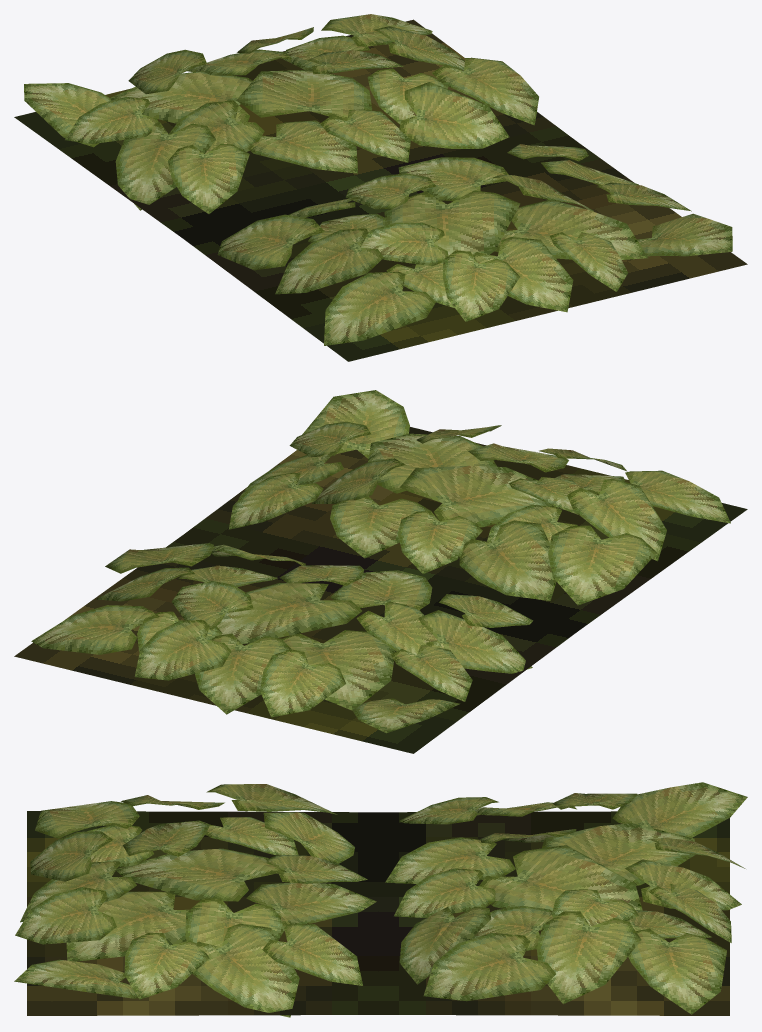
File: Emb_PlanterBalc_3X4_DirtB.FBX
3 views of the same model, one above another, from view 1: azimuth 30°, elevation 25°; view 2: azimuth 150°, elevation 25°; view 3: azimuth 270°, elevation 25° (orthographic). The views are drawn at different scales.
Visible parts, largest first — view 1: Emb_PlanterBalc_3X4_DirtB; view 2: Emb_PlanterBalc_3X4_DirtB; view 3: Emb_PlanterBalc_3X4_DirtB.
Part boxes in pixels (left/top/right/bottom): Emb_PlanterBalc_3X4_DirtB: left=14, top=14, right=747, bottom=361; Emb_PlanterBalc_3X4_DirtB: left=14, top=390, right=747, bottom=753; Emb_PlanterBalc_3X4_DirtB: left=14, top=782, right=747, bottom=1017.
Size of the model in its own units: 2.25 by 0.3046 by 3.37.
